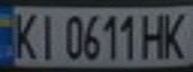0: (60, 11, 84, 61)
1: (118, 10, 142, 61), (100, 11, 121, 61)
6: (81, 11, 103, 61)
H: (136, 9, 172, 61)
I: (33, 10, 60, 61)
K: (157, 7, 193, 60), (6, 8, 42, 61)
